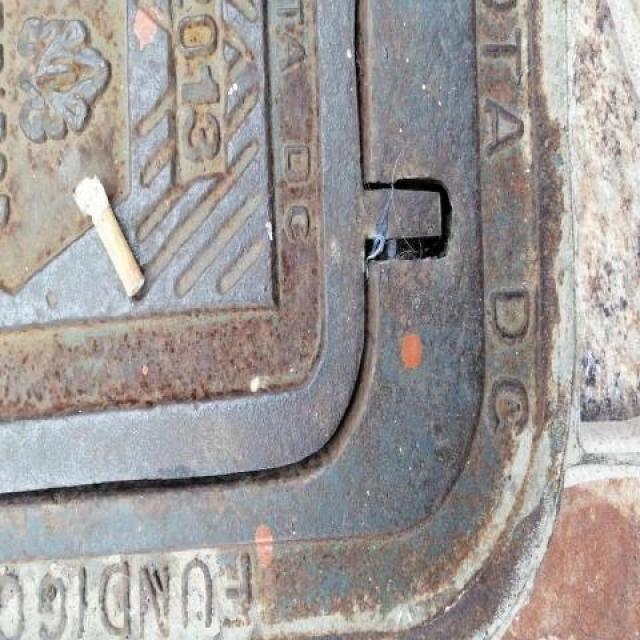non-organic waste: (69, 173, 151, 303)
